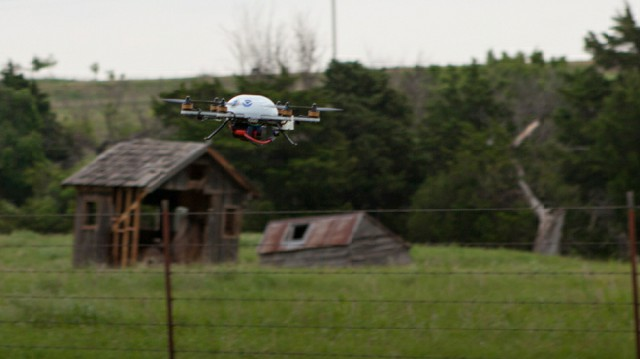maybay_khongnguoilai: (167, 82, 328, 149)
